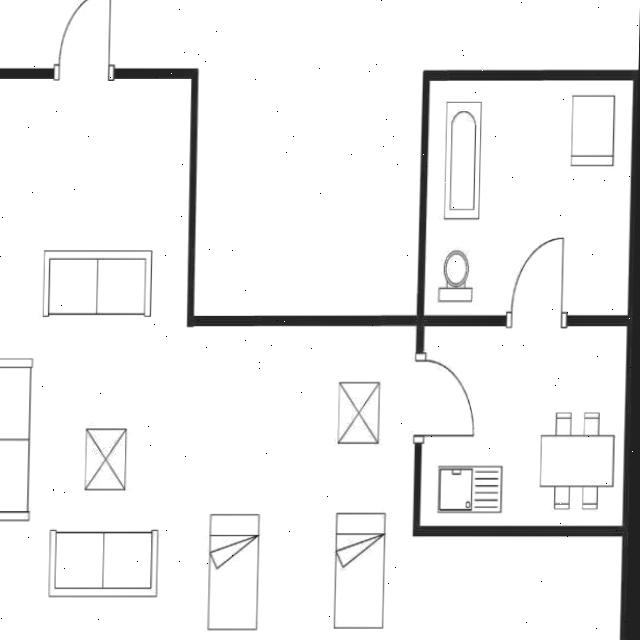room: (0, 78, 622, 640), (424, 75, 633, 321), (420, 326, 627, 526)
